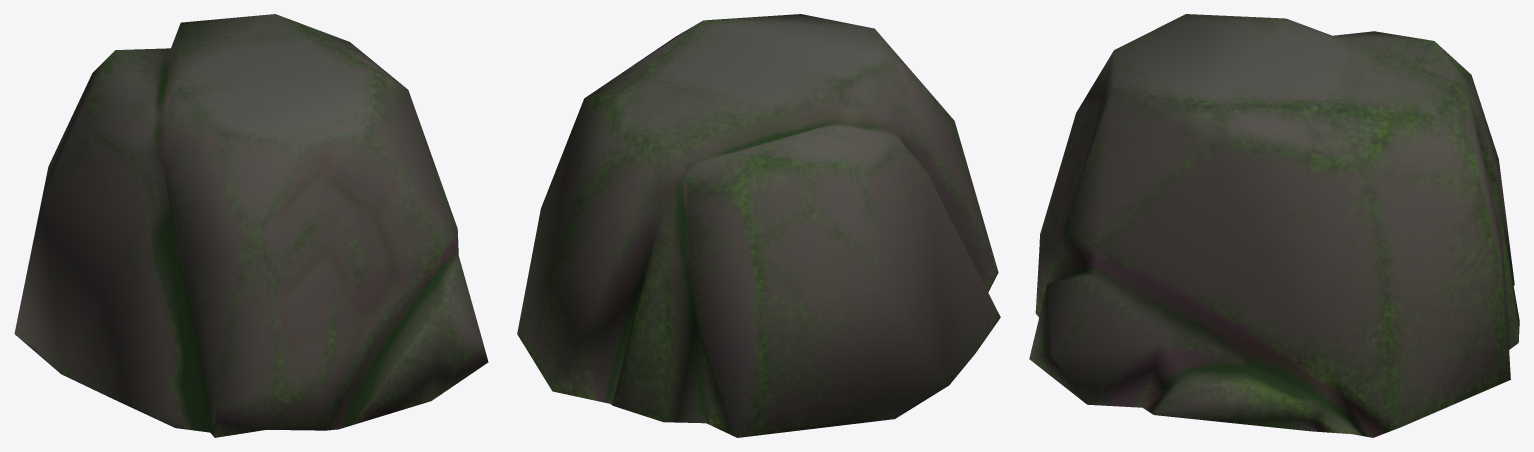
File: Outdoor_prop_stones_05.FBX
3 views of the same model, side by side, from view 1: azimuth 30°, elevation 25°; view 2: azimuth 150°, elevation 25°; view 3: azimuth 270°, elevation 25° (orthographic). The views are drawn at different scales.
Visible parts, largest first — view 1: Outdoor_prop_stones_05; view 2: Outdoor_prop_stones_05; view 3: Outdoor_prop_stones_05.
Boxes of the visible parts, bbox=[...] form: Outdoor_prop_stones_05: bbox=[14, 14, 488, 437]; Outdoor_prop_stones_05: bbox=[517, 14, 1000, 437]; Outdoor_prop_stones_05: bbox=[1029, 14, 1519, 437].
Bounding box in the file's own units: 59.65 × 62.93 × 41.57.
